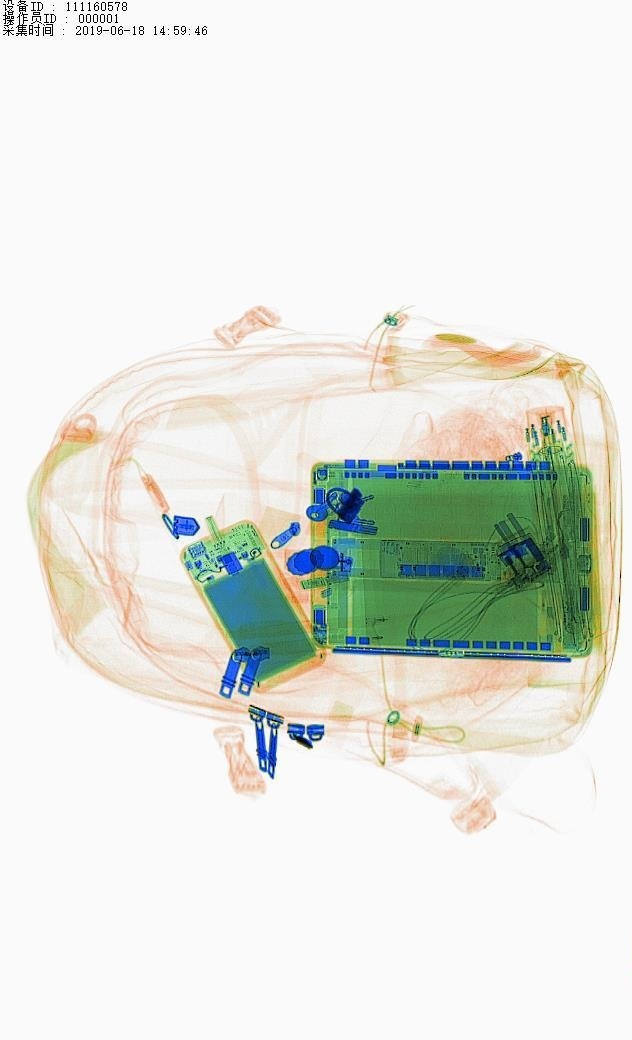NonmetallicFire: (270, 537, 382, 599)
